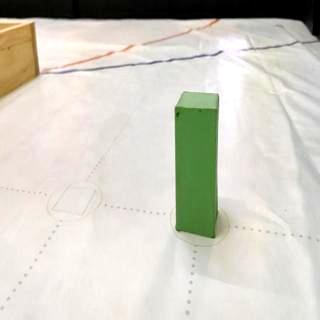greenbox: (172, 88, 220, 237)
